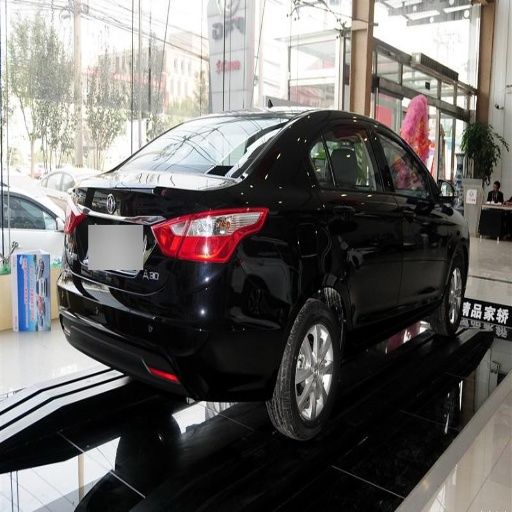back_bumper: (60, 254, 291, 399)
back_left_light: (155, 215, 221, 259)
back_right_door: (303, 117, 400, 324)
back_right_light: (190, 211, 265, 260)
tailgate: (98, 185, 186, 231)
trunk: (85, 231, 149, 281)
